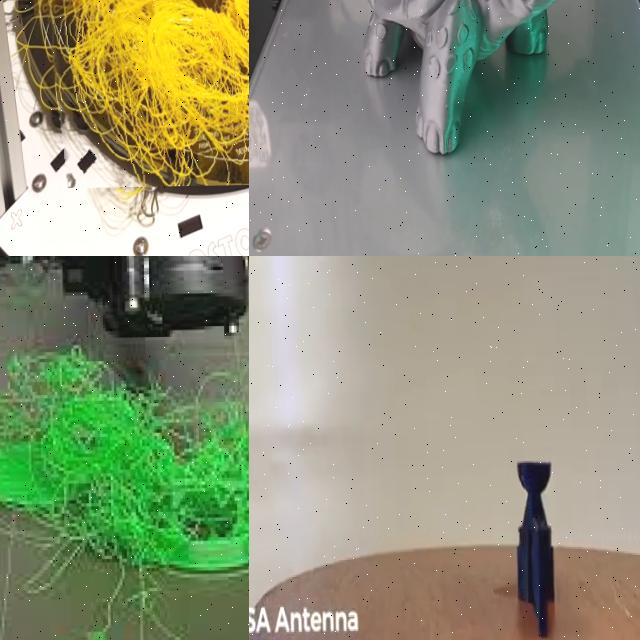spaghetti: (0, 358, 249, 577), (33, 0, 249, 188)
